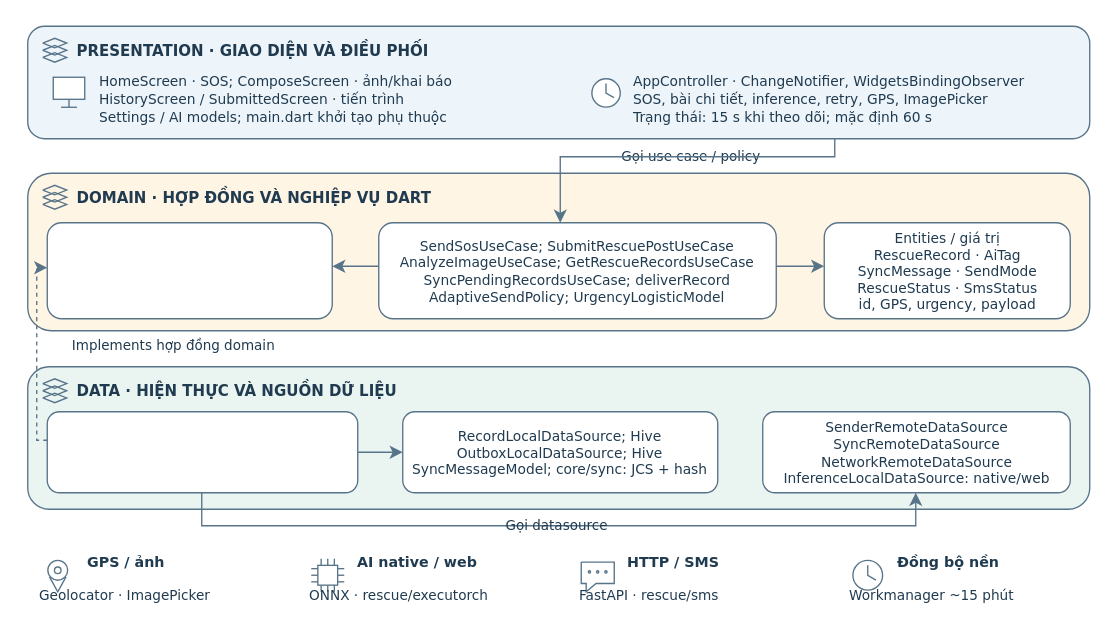
Image size: 1116x632. Some labels were removed from this diagram. The centre of each missing label's shape, as x and y in pixels:
Repository interfaces RescueRepository InferenceRepository NetworkRepository: point (189, 270)
RescueRepositoryImpl InferenceRepositoryImpl NetworkRepositoryImpl: point (202, 451)
